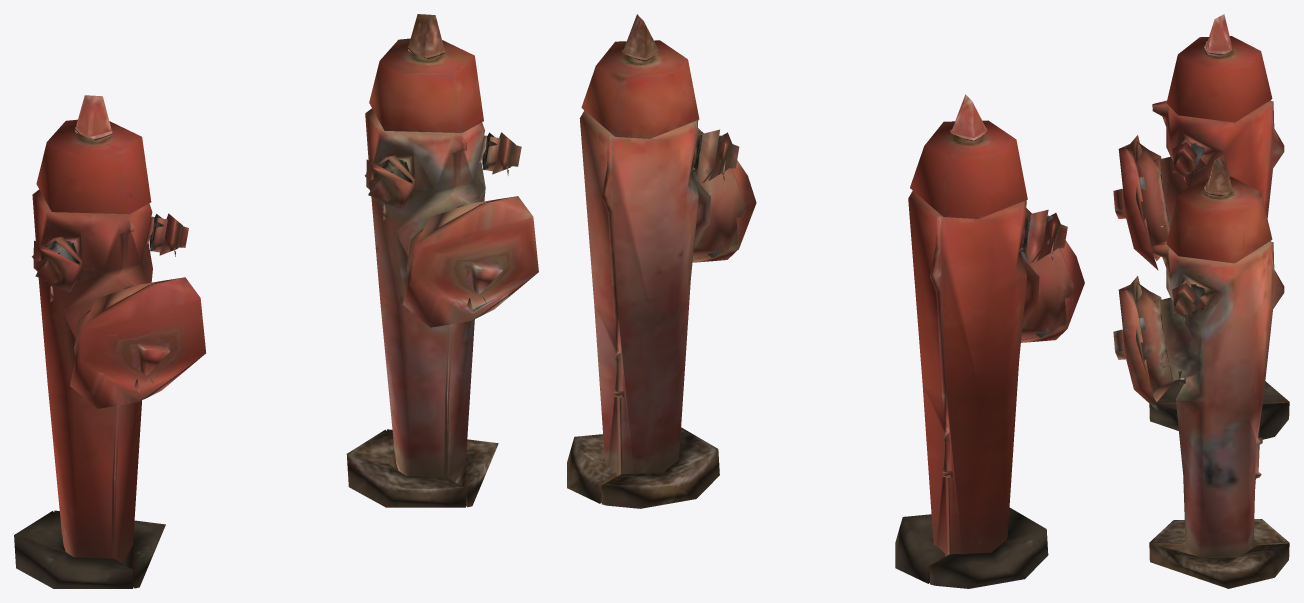
The model's file is fire_hydrant.glb.
3 renders of one model, left to right at view 1: azimuth 30°, elevation 25°; view 2: azimuth 150°, elevation 25°; view 3: azimuth 270°, elevation 25°, orthographic. The views are drawn at different scales.
Parts seen in each view (by area): view 1: fire_hydrant_aged, fire_hydrant; view 2: fire_hydrant, fire_hydrant_aged; view 3: fire_hydrant_aged, fire_hydrant.
Part boxes in pixels (x1=…): fire_hydrant_aged: x1=346, y1=14, x2=538, y2=507; fire_hydrant: x1=14, y1=95, x2=205, y2=588; fire_hydrant: x1=895, y1=94, x2=1084, y2=588; fire_hydrant_aged: x1=567, y1=14, x2=756, y2=508; fire_hydrant_aged: x1=1113, y1=155, x2=1289, y2=588; fire_hydrant: x1=1113, y1=14, x2=1289, y2=439.
Bounding box in the file's own units: 0.8729 × 0.7992 × 0.3173.
Materials: 2 (2 with a texture image).
